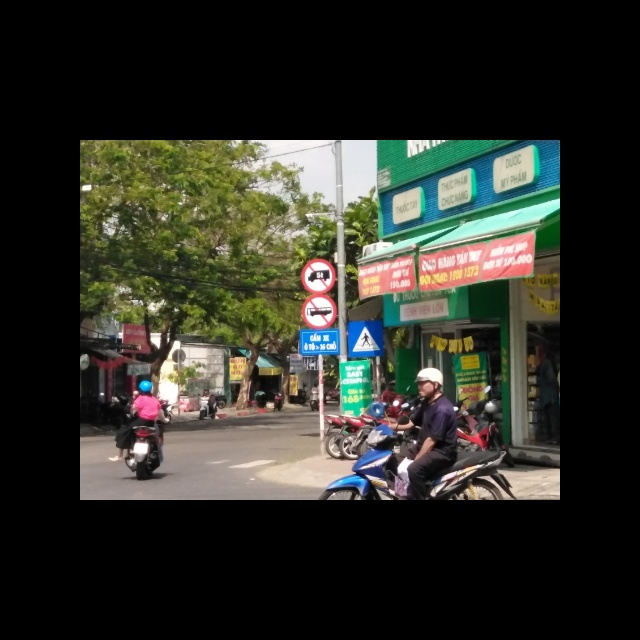Cấm xe tải: (300, 257, 336, 294)
Cấm xe xe khách: (302, 296, 339, 332)
Đường dành cho người đi bộ: (348, 322, 385, 359)
